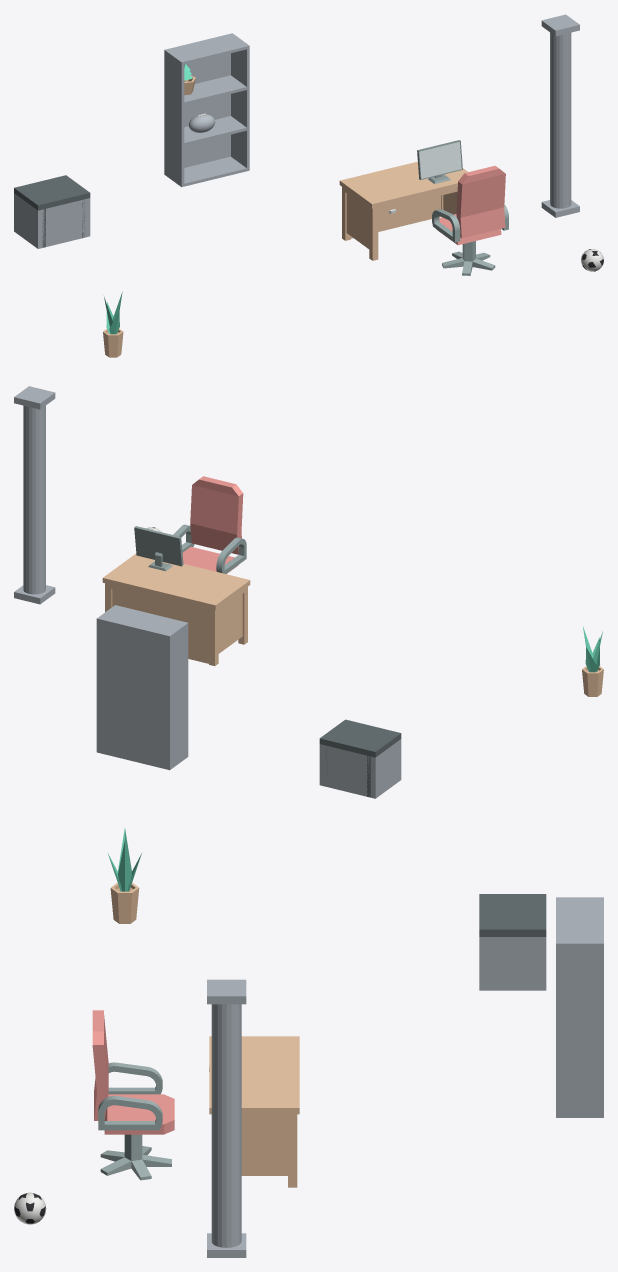
The picture shows the model from 3 angles, top to bottom: view 1: azimuth 30°, elevation 25°; view 2: azimuth 150°, elevation 25°; view 3: azimuth 270°, elevation 25°; orthographic projection. The views are drawn at different scales.
Visible parts, largest first — view 1: desk_blue__desk(Clone), deskchair_black__chair, column_cyan__column_cyan shaft, crate_red__crate_red shell, shelf_orange__shelf_orange back, shelf_orange__shelf_orange side_l, shelf_orange__shelf_orange side_r, crate_red__crate_red lid, monitor_gray__computerScreen(Clone), shelf_orange__shelf_orange board3, shelf_orange__shelf_orange board0, shelf_orange__shelf_orange board2 (+4 smaller); view 2: shelf_orange__shelf_orange back, desk_blue__desk(Clone), deskchair_black__chair, column_cyan__column_cyan shaft, crate_red__crate_red shell, shelf_orange__shelf_orange side_l, crate_red__crate_red lid, monitor_gray__computerScreen(Clone), shelf_orange__shelf_orange board3, column_cyan__column_cyan capital, shelf_orange__shelf_orange side_r, plant_pink__pottedPlant(Clone); view 3: shelf_orange__shelf_orange side_r, desk_blue__desk(Clone), column_cyan__column_cyan shaft, deskchair_black__chair, crate_red__crate_red shell, crate_red__crate_red lid, shelf_orange__shelf_orange board3, deskchair_black__chairDesk(Clone), column_cyan__column_cyan capital, plant_pink__pottedPlant(Clone), soccer_white__soccer_white, plant_pink__plant (+1 smaller).
Part boxes in pixels (box(x1,y1,x2,y2)): desk_blue__desk(Clone): box(339, 161, 468, 260); deskchair_black__chair: box(432, 165, 508, 245); column_cyan__column_cyan shaft: box(550, 32, 571, 208); crate_red__crate_red shell: box(14, 193, 90, 248); shelf_orange__shelf_orange back: box(167, 34, 230, 167); shelf_orange__shelf_orange side_l: box(164, 49, 184, 187); shelf_orange__shelf_orange side_r: box(230, 33, 249, 171); crate_red__crate_red lid: box(14, 175, 90, 210); monitor_gray__computerScreen(Clone): box(417, 140, 462, 183); shelf_orange__shelf_orange board3: box(168, 34, 246, 64); shelf_orange__shelf_orange board0: box(184, 156, 246, 186); shelf_orange__shelf_orange board2: box(184, 75, 246, 104); shelf_orange__shelf_orange back: box(99, 618, 167, 769); desk_blue__desk(Clone): box(102, 553, 250, 665); deskchair_black__chair: box(173, 476, 246, 574); column_cyan__column_cyan shaft: box(23, 405, 45, 594); crate_red__crate_red shell: box(319, 739, 401, 798); shelf_orange__shelf_orange side_l: box(167, 622, 188, 770); crate_red__crate_red lid: box(319, 719, 401, 757); monitor_gray__computerScreen(Clone): box(134, 526, 183, 571); shelf_orange__shelf_orange board3: box(101, 605, 184, 634); column_cyan__column_cyan capital: box(14, 386, 55, 409); shelf_orange__shelf_orange side_r: box(96, 605, 117, 752); plant_pink__pottedPlant(Clone): box(582, 666, 603, 696); shelf_orange__shelf_orange side_r: box(556, 941, 603, 1117); desk_blue__desk(Clone): box(209, 1036, 299, 1187); column_cyan__column_cyan shaft: box(211, 1004, 241, 1247); deskchair_black__chair: box(92, 1010, 174, 1134); crate_red__crate_red shell: box(479, 937, 546, 990); crate_red__crate_red lid: box(479, 894, 546, 936); shelf_orange__shelf_orange board3: box(556, 899, 600, 941); deskchair_black__chairDesk(Clone): box(100, 1134, 171, 1180); column_cyan__column_cyan capital: box(207, 979, 246, 1004); plant_pink__pottedPlant(Clone): box(110, 882, 139, 923); soccer_white__soccer_white: box(14, 1192, 46, 1224); plant_pink__plant: box(108, 828, 141, 891).
Size of the model in its own units: 5.56 by 1.97 by 4.02.
